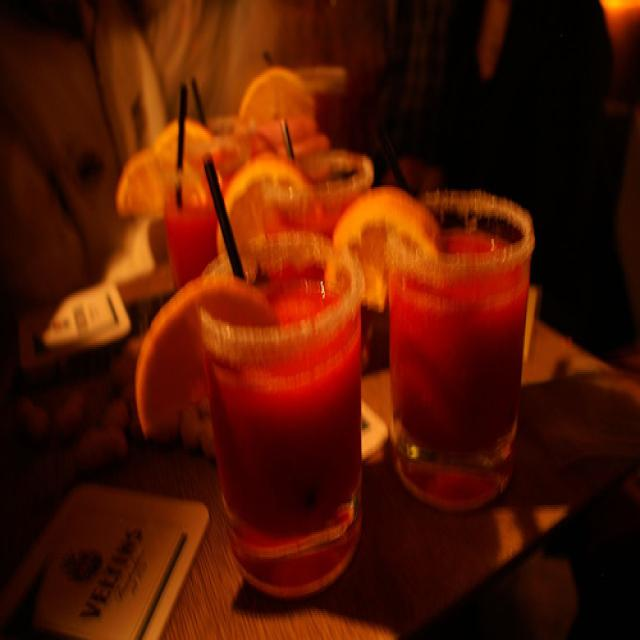Cup: (393, 192, 550, 520), (207, 244, 358, 570), (186, 165, 271, 277), (219, 86, 299, 186), (314, 133, 380, 241)
People: (0, 0, 194, 366), (434, 0, 601, 198)
Table: (0, 202, 632, 640)
